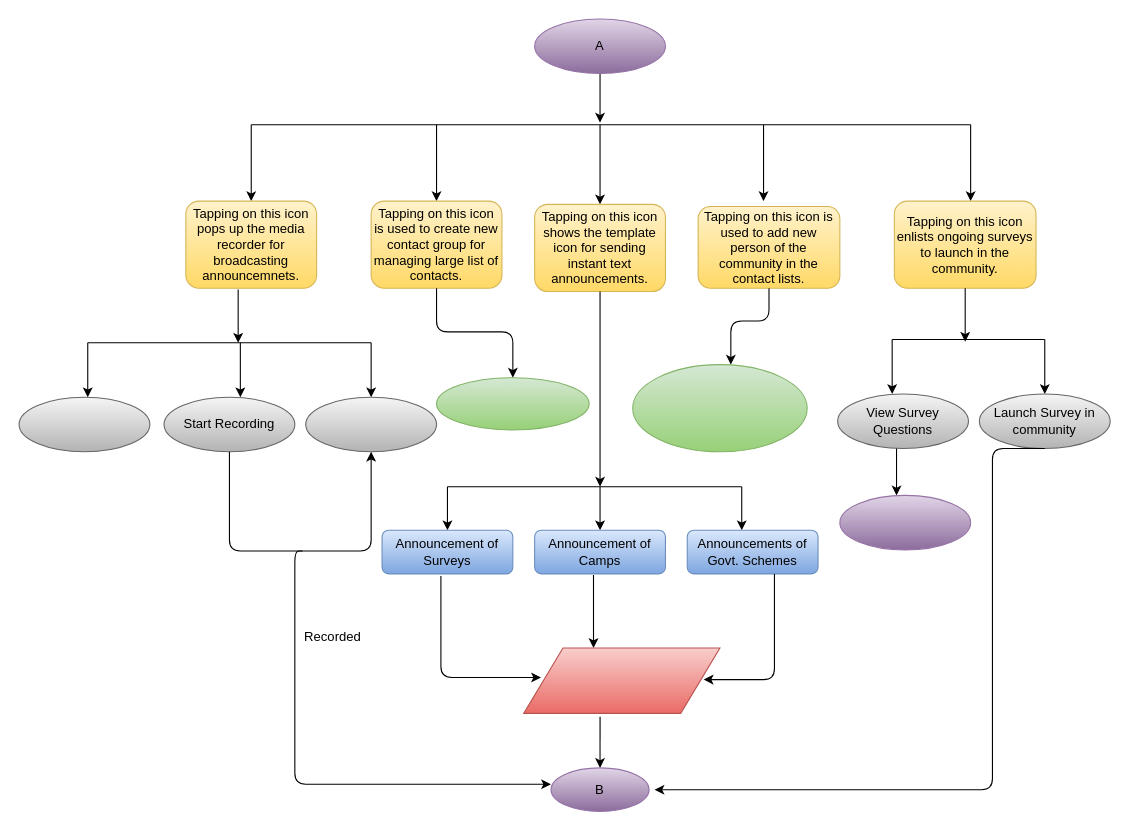
This 1129x831 diagram has some shape labels left out. Here are the shapes that lost their labels. From the top down, the box of each, then its label:
(435, 377, 589, 430): Enter the contact group name& click to create
(632, 364, 807, 452): Enter all the user details along with 1 or multiple groups & click on confirm
(18, 396, 150, 452): Choose the Format (3GP or MP3)
(305, 396, 437, 452): Stop Recording
(839, 494, 971, 550): View survey responses
(523, 647, 720, 713): Fill all the required details
